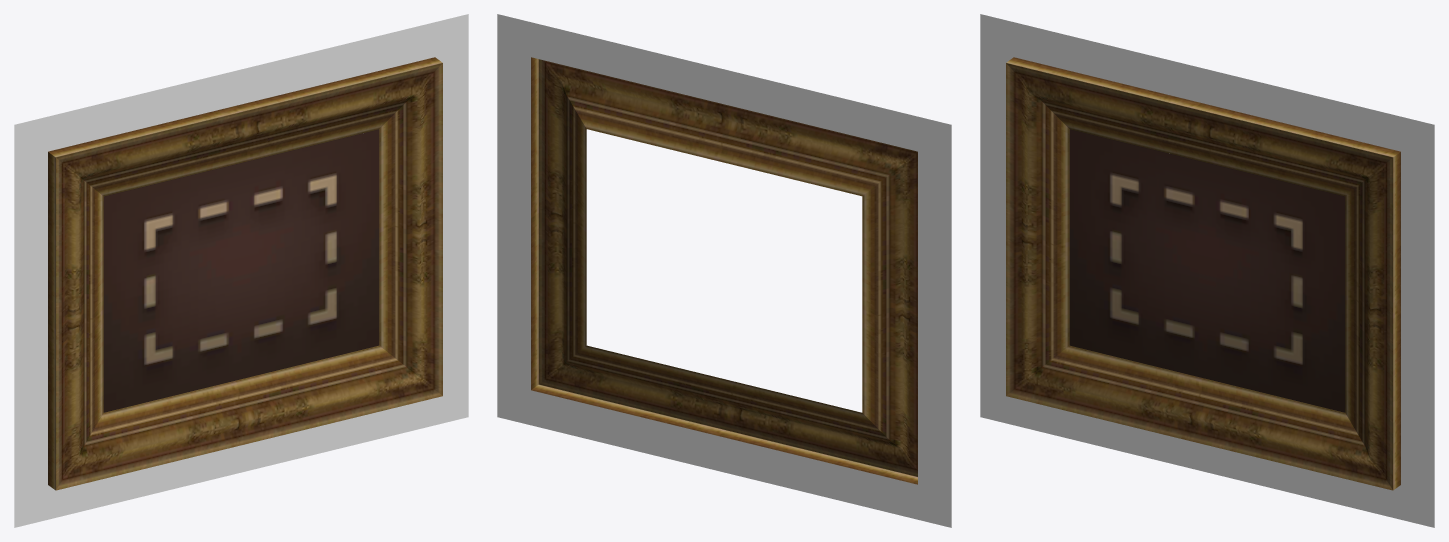
The model's file is Frame_01_Small.dae.
The picture shows the model from 3 angles, left to right: view 1: azimuth 30°, elevation 25°; view 2: azimuth 150°, elevation 25°; view 3: azimuth 330°, elevation 25°; orthographic projection.
Parts seen in each view (by area): view 1: Frame_01_Small (×3); view 2: Frame_01_Small (×2); view 3: Frame_01_Small (×3).
Boxes of the visible parts, x1,y1,x2,y2 form: Frame_01_Small (×3): [14, 14, 468, 527]; Frame_01_Small (×2): [497, 14, 951, 527]; Frame_01_Small (×3): [980, 14, 1434, 527].
Bounding box in the file's own units: 272 × 231 × 8.27.
Materials: 3 (3 with a texture image).
